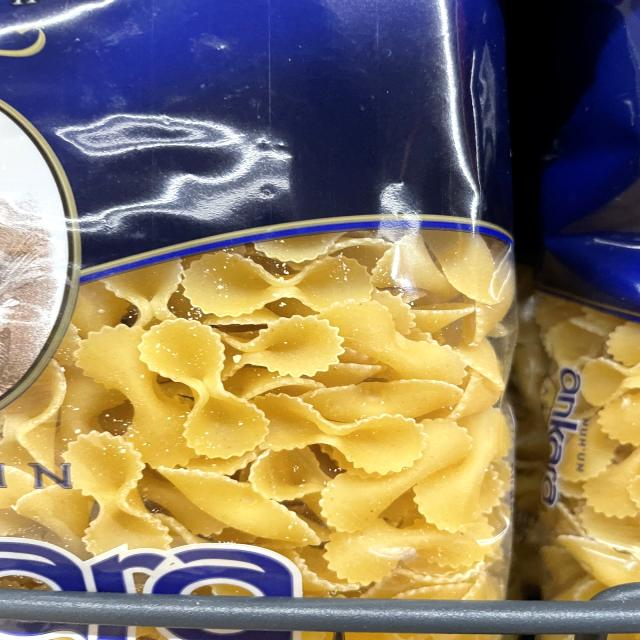farfalle pasta: (0, 6, 513, 640)
